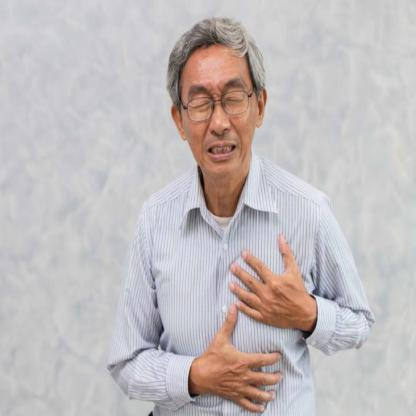pain: (180, 72, 250, 123)
